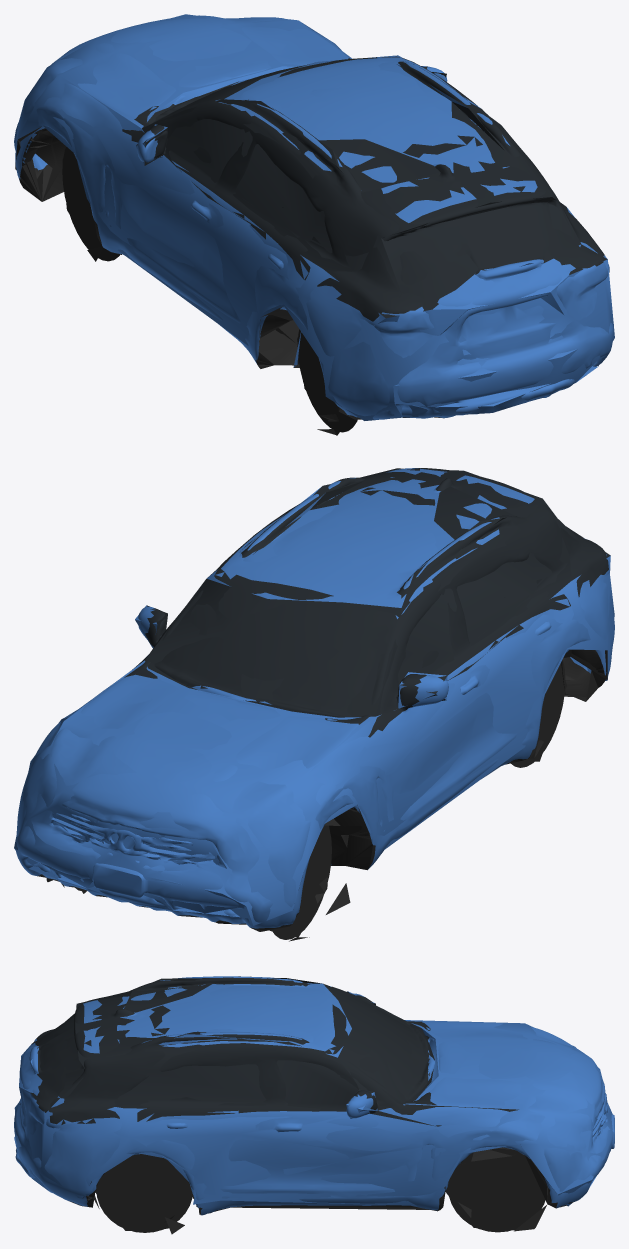
The model's file is infiniti-fx35.glb.
The picture shows the model from 3 angles, top to bottom: view 1: azimuth 30°, elevation 25°; view 2: azimuth 150°, elevation 25°; view 3: azimuth 270°, elevation 25°; orthographic projection. The views are drawn at different scales.
Visible parts, largest first — view 1: body, far; view 2: body, far; view 3: body, far.
Boxes of the visible parts, x1,y1,x2,y2 form: body: [14, 15, 613, 435]; far: [15, 14, 614, 435]; body: [16, 468, 614, 941]; far: [14, 468, 614, 937]; body: [14, 976, 614, 1234]; far: [14, 978, 613, 1231].
Size of the model in its own units: 2.18 by 1.75 by 4.94.
